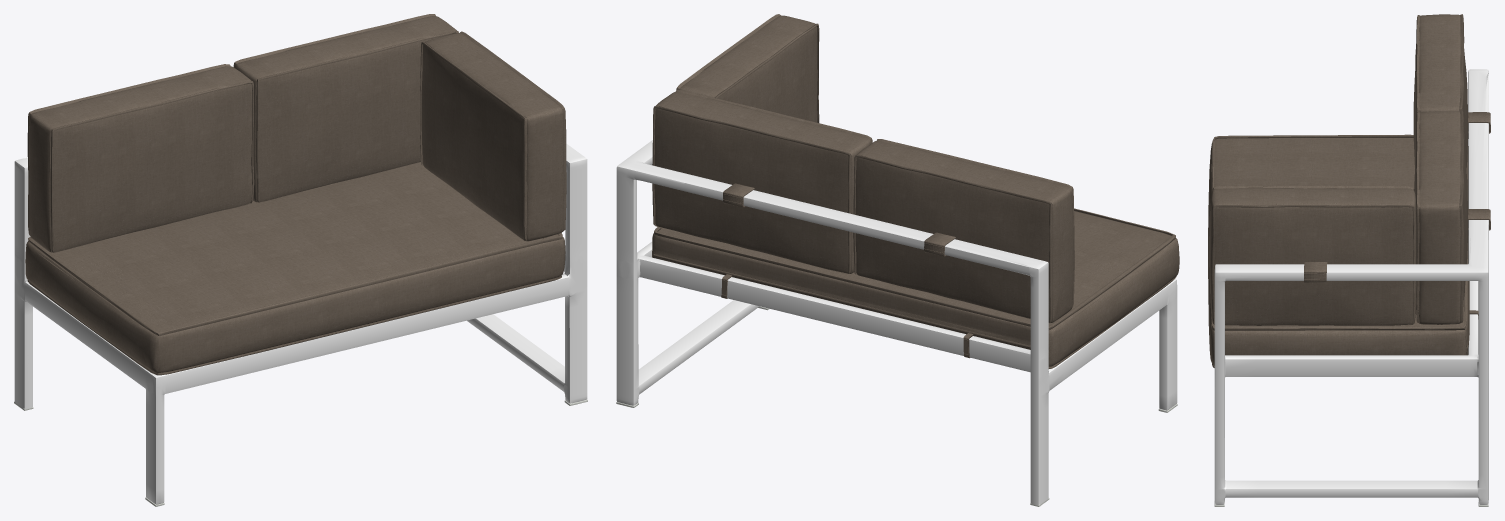
File: sofa.glb
The picture shows the model from 3 angles, left to right: view 1: azimuth 30°, elevation 25°; view 2: azimuth 150°, elevation 25°; view 3: azimuth 270°, elevation 25°; orthographic projection. The views are drawn at different scales.
Bounding box in the file's own units: 1.18 × 0.7739 × 0.6806.
Materials: 3 (1 with a texture image).
